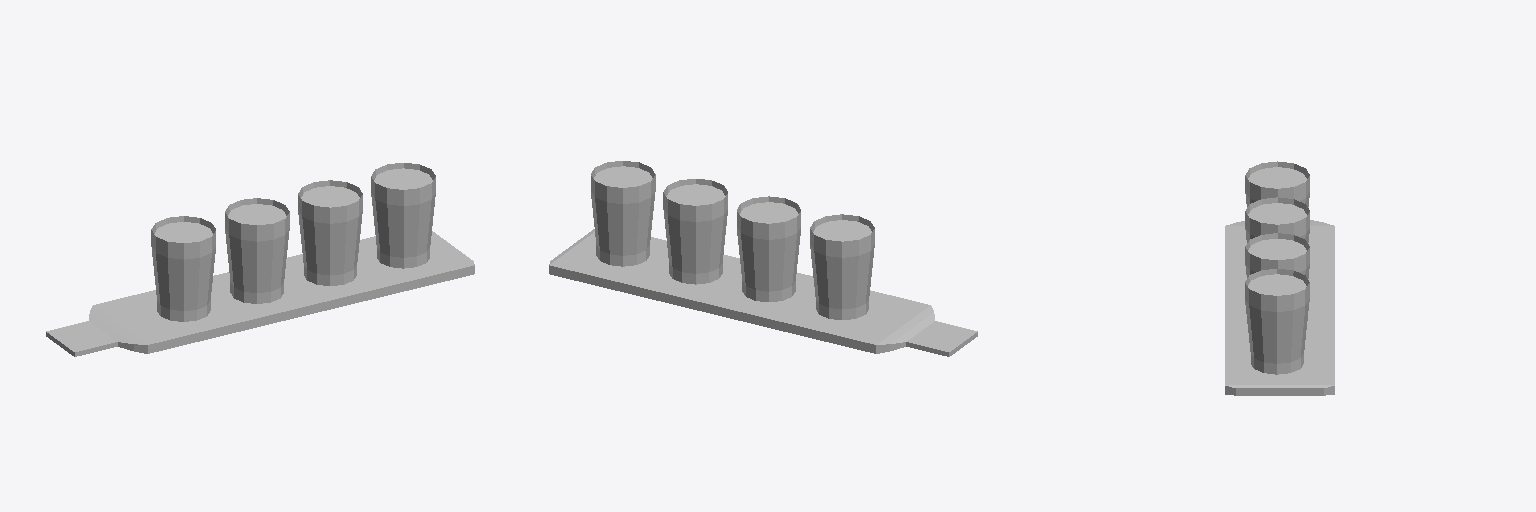
Rendered from beer.obj.
The picture shows the model from 3 angles: view 1: azimuth 30°, elevation 25°; view 2: azimuth 150°, elevation 25°; view 3: azimuth 270°, elevation 25°; orthographic projection.
Size of the model in its own units: 0.91 by 0.2 by 0.22.